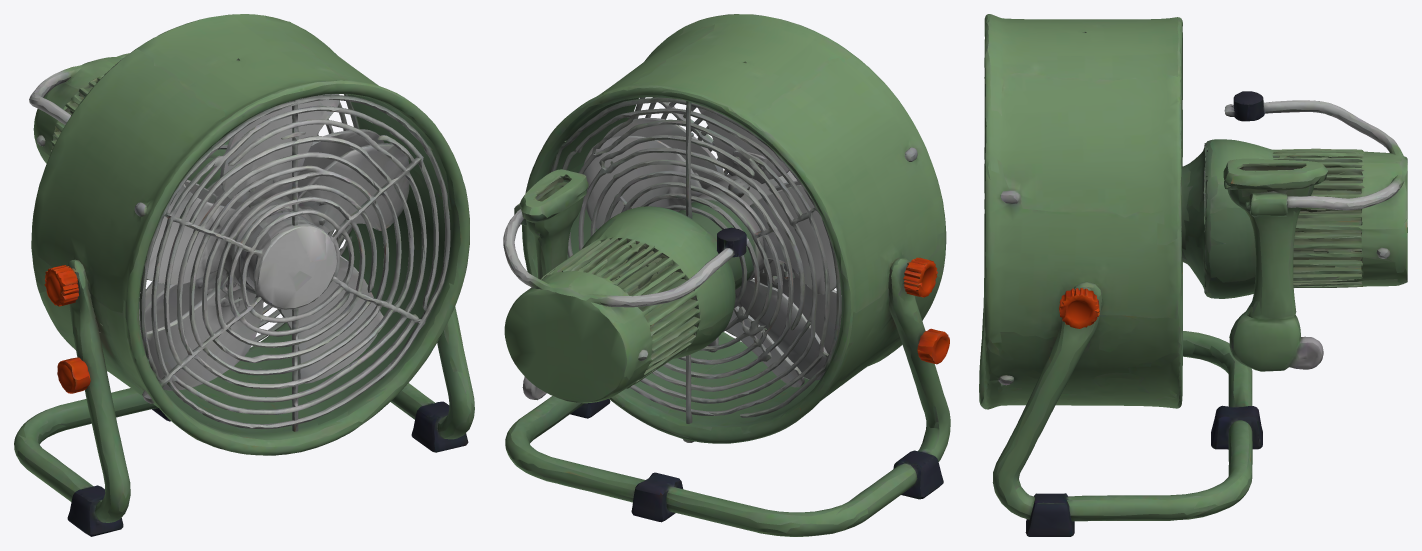
3 renders of one model, left to right at view 1: azimuth 30°, elevation 25°; view 2: azimuth 150°, elevation 25°; view 3: azimuth 270°, elevation 25°, orthographic. The views are drawn at different scales.
Visible parts, largest first — view 1: geometry_0; view 2: geometry_0; view 3: geometry_0.
Boxes of the visible parts, x1,y1,x2,y2 form: geometry_0: [14, 14, 474, 536]; geometry_0: [503, 14, 950, 536]; geometry_0: [979, 14, 1407, 536].
Bounding box in the file's own units: 0.35 × 0.3522 × 0.3299.
1 material, 1 textured.
